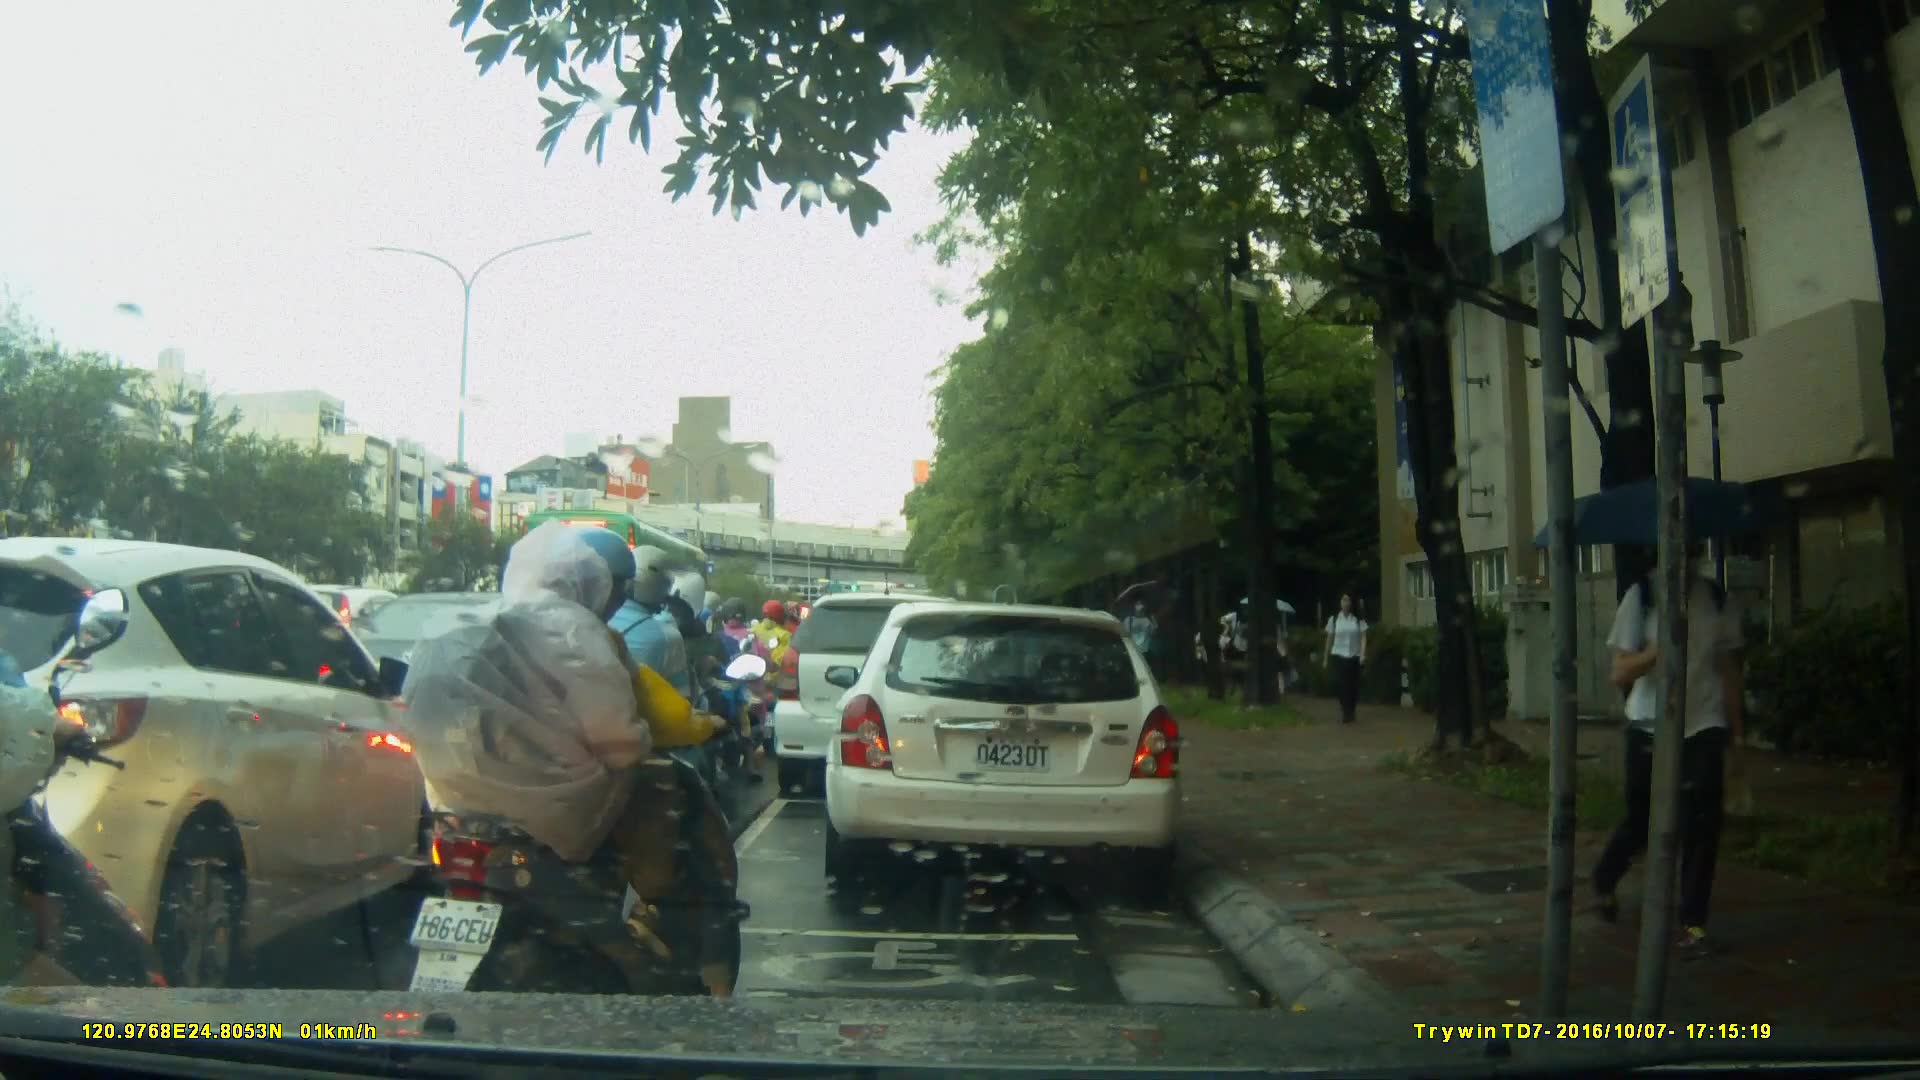pedestrian: (1606, 497, 1759, 959), (1316, 589, 1374, 727), (1122, 593, 1162, 707)
rider: (393, 514, 753, 1073), (1, 585, 178, 1080), (541, 546, 732, 887), (608, 570, 744, 864), (705, 601, 779, 765), (751, 603, 809, 744)
vehicle: (1, 536, 442, 988), (822, 604, 1186, 881), (774, 595, 995, 802), (531, 511, 733, 668)
